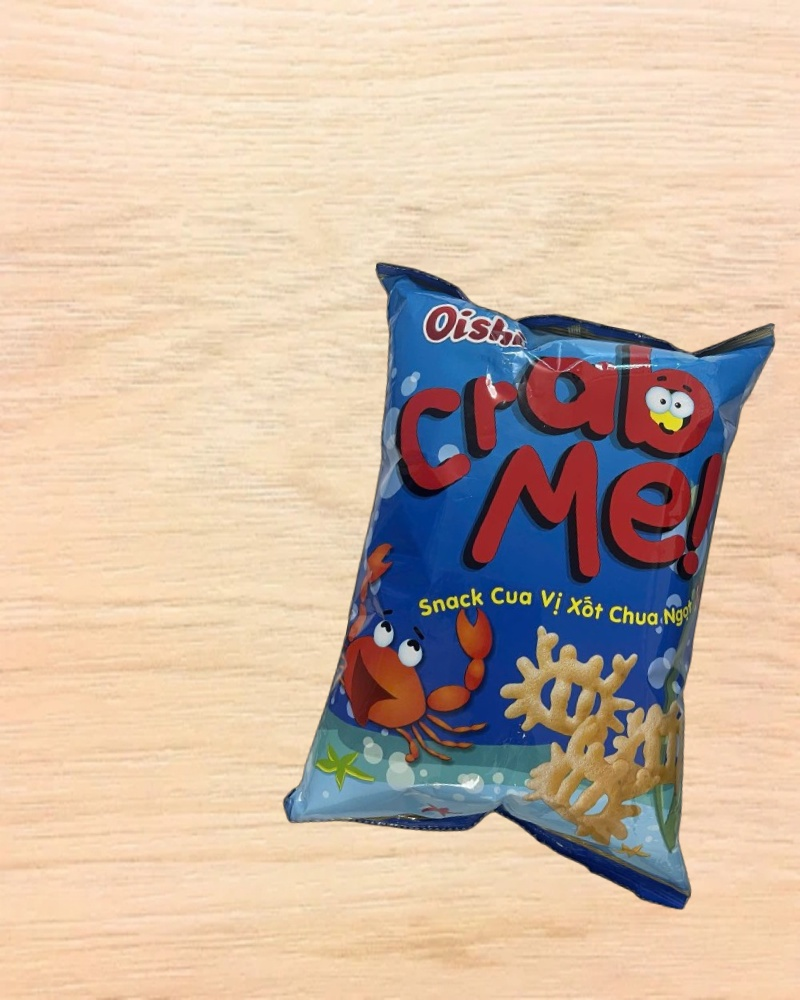Snack chay: (276, 255, 791, 913)
